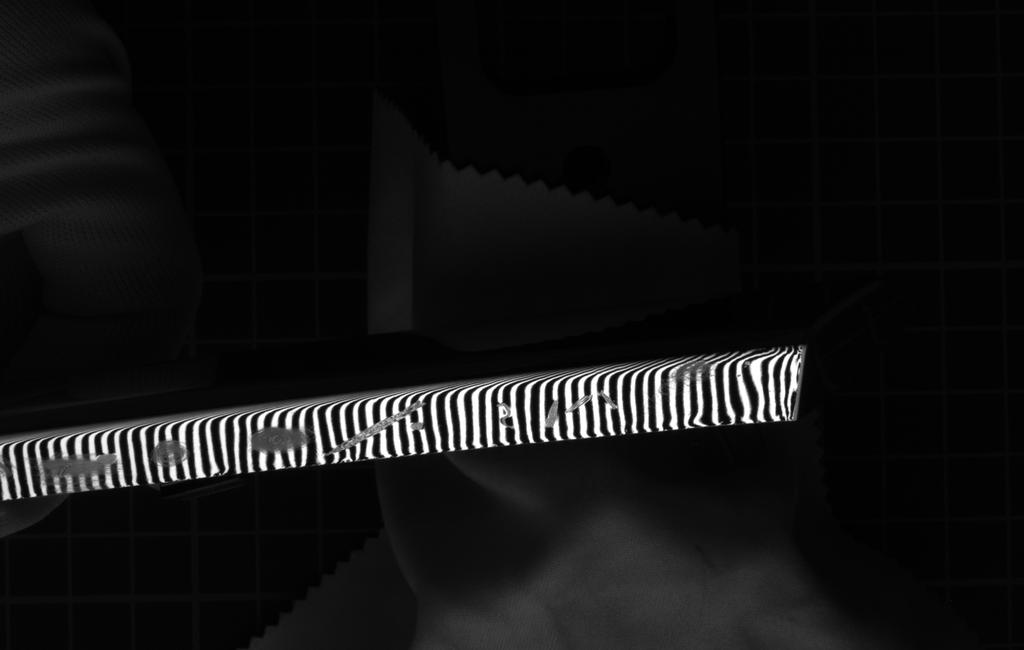Pierced: (404, 416, 430, 435)
Pitting: (26, 449, 124, 489), (658, 353, 740, 395), (242, 421, 315, 460), (142, 437, 191, 473)
Scratch: (324, 409, 411, 463), (497, 399, 517, 436), (544, 394, 560, 438), (597, 388, 623, 412), (569, 393, 590, 416)
